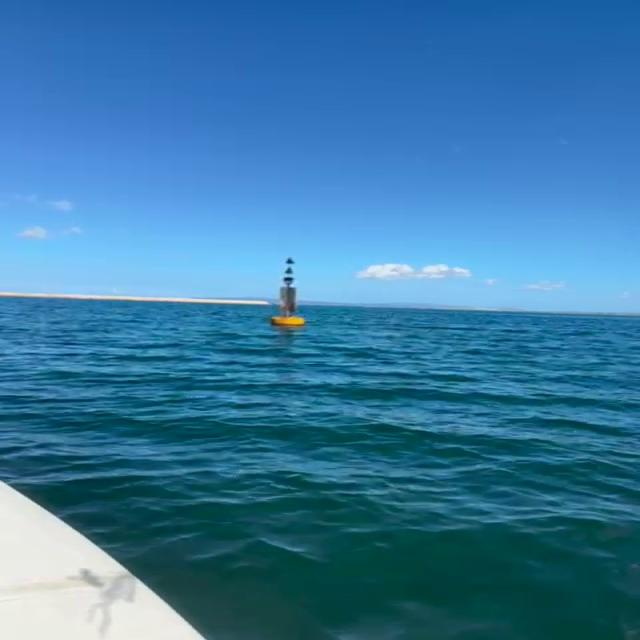marque: (272, 258, 307, 329)
